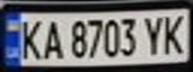0: (103, 16, 124, 58)
3: (118, 15, 142, 57)
7: (84, 16, 106, 58)
8: (66, 16, 87, 58)
A: (39, 17, 66, 61)
K: (157, 11, 190, 55), (15, 16, 45, 61)
Y: (139, 12, 169, 56)
